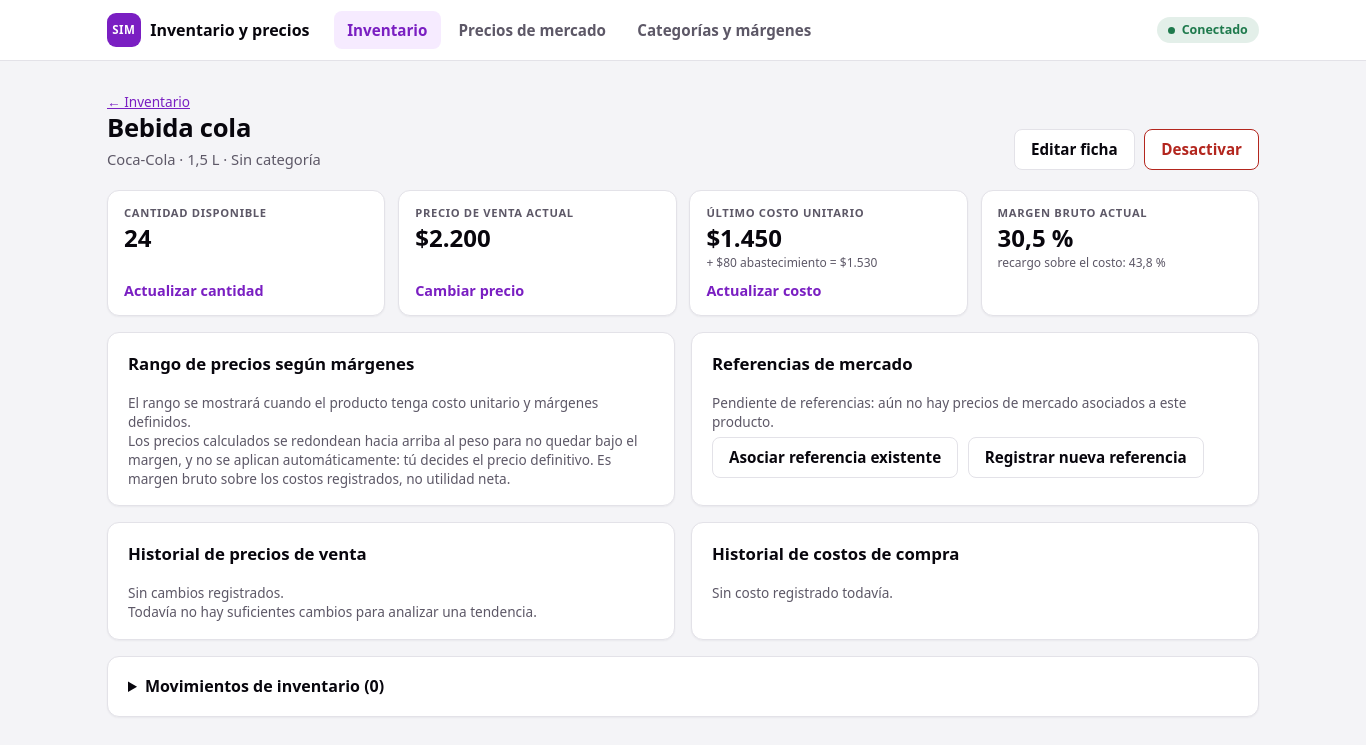
Test: pantallas › si el servidor se cae al guardar lo dice en español y la cabecera deja de decir Conectado (H-09)
The width and height of the screenshot is (1366, 745).
Click the button "Cambiar precio": [470, 288] box [415, 274, 524, 301]
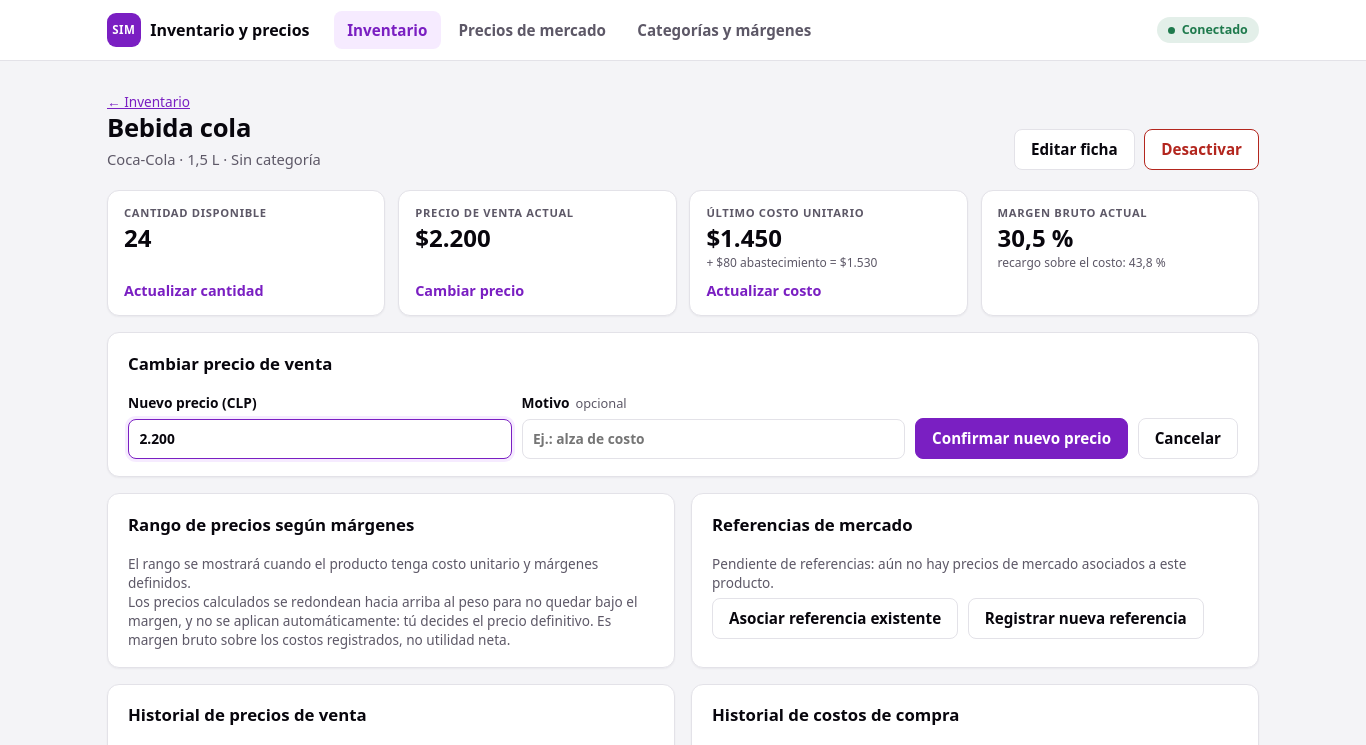
Replace the text in the field labelled "Nuevo precio (CLP)" with "2.300": [320, 439] box [128, 419, 512, 459]
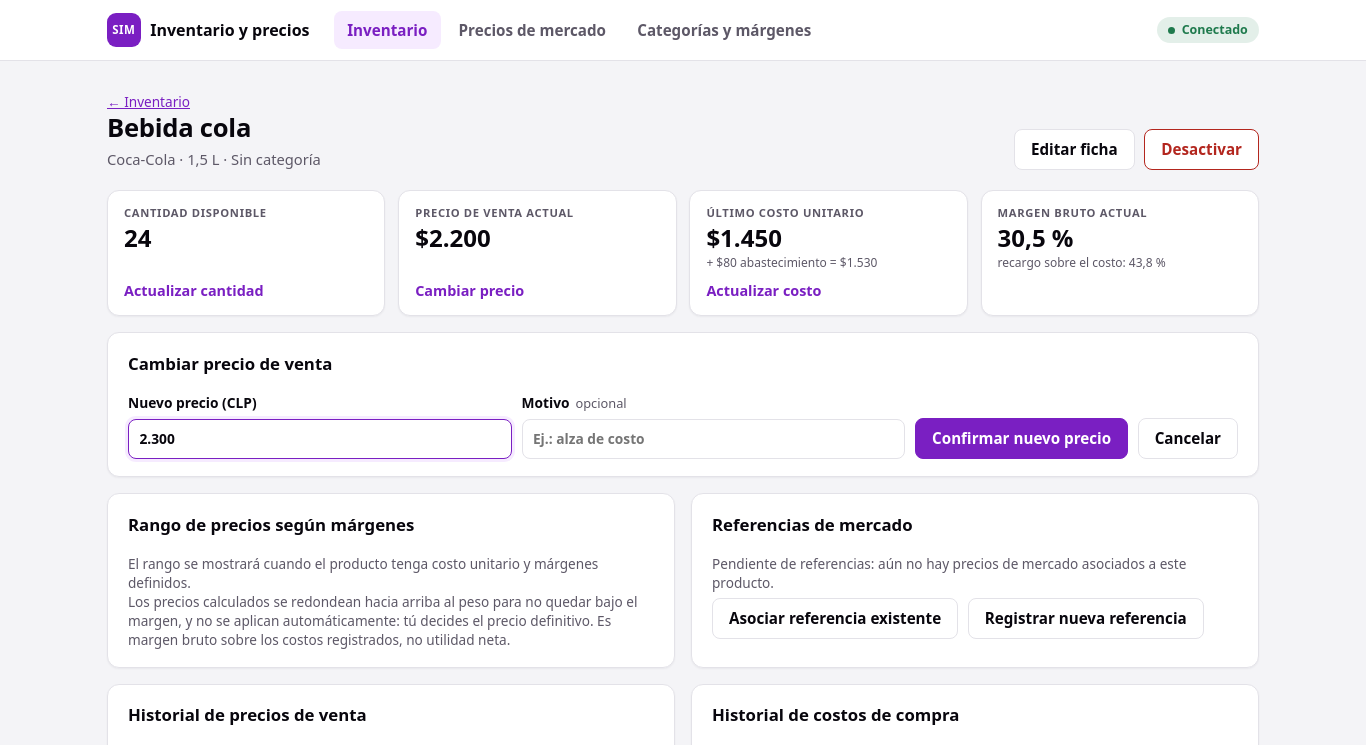
Click the button "Confirmar nuevo precio": [1022, 438] box [915, 418, 1128, 459]
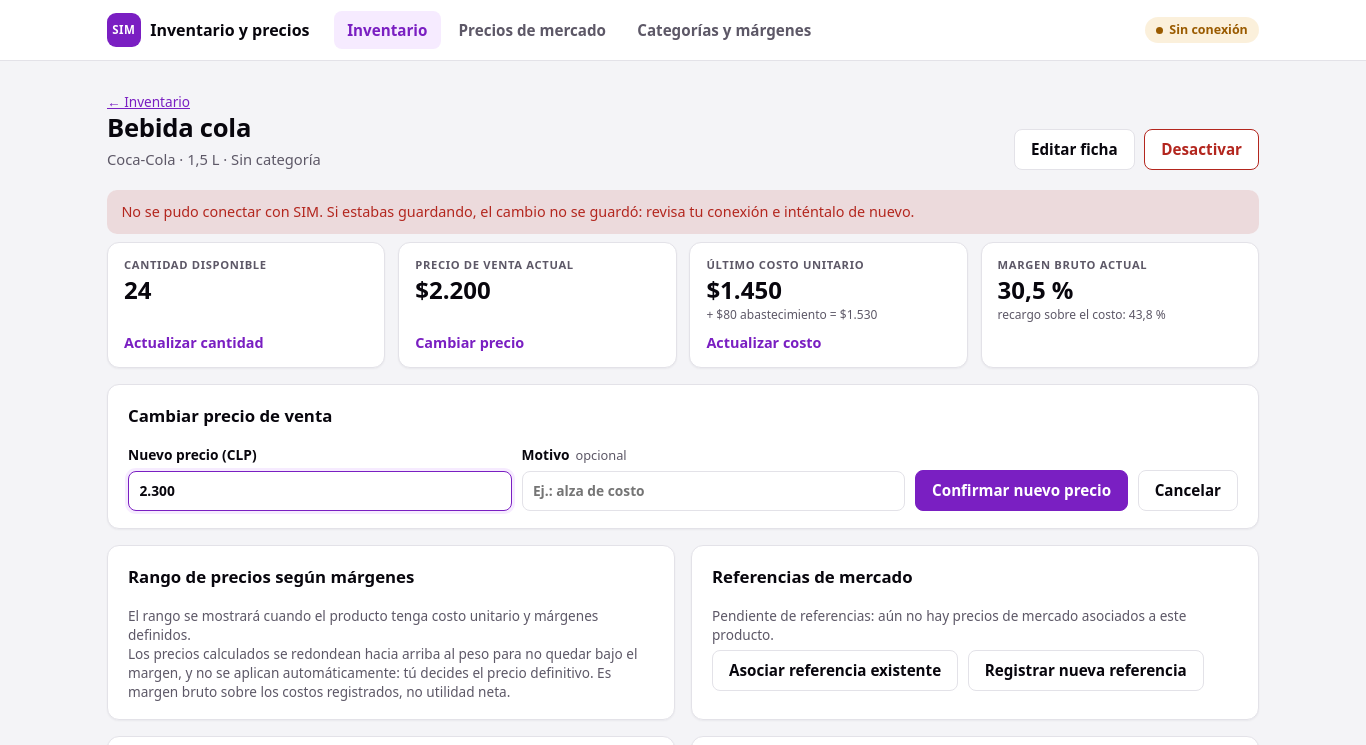
expect the text "el cambio no se guardó" is shown: met, box [121, 202, 914, 221]
expect the text "Sin conexión" is shown: met, box [1145, 17, 1259, 43]
